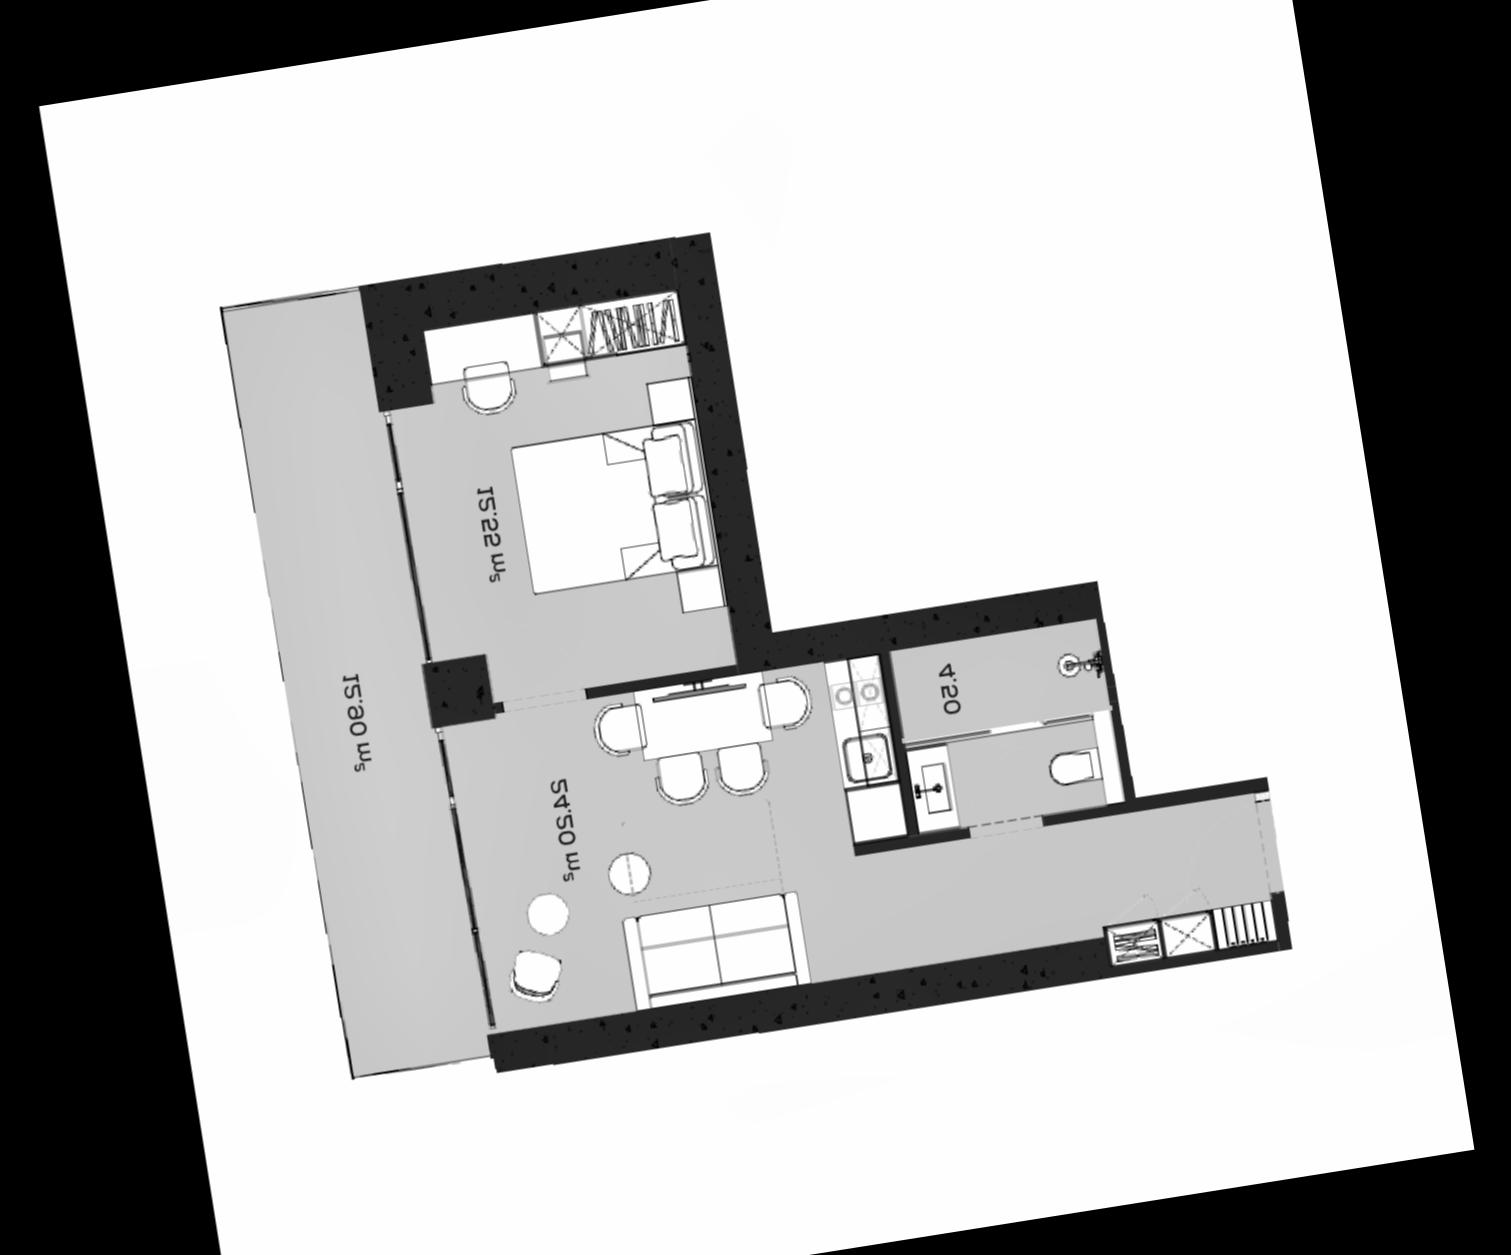door: (1245, 781, 1291, 905), (492, 683, 594, 718), (961, 807, 1052, 843)
